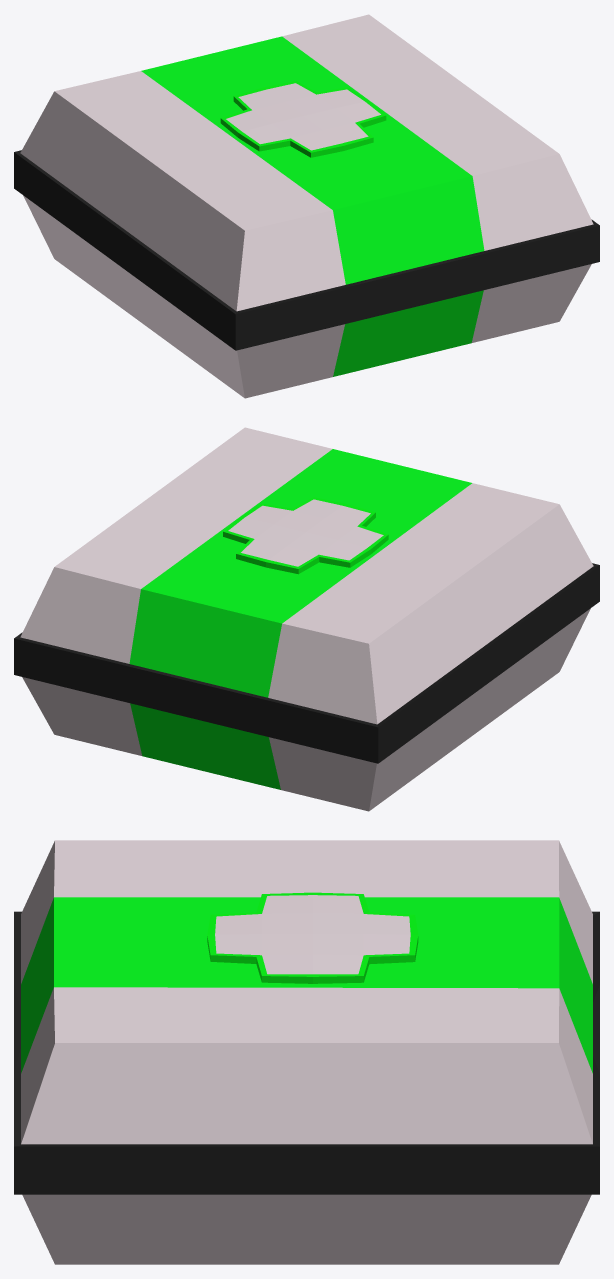
File: medikit2.fbx
3 renders of one model, top to bottom at view 1: azimuth 30°, elevation 25°; view 2: azimuth 150°, elevation 25°; view 3: azimuth 270°, elevation 25°, orthographic. The views are drawn at different scales.
Visible parts, largest first — view 1: Cube; view 2: Cube; view 3: Cube.
Boxes of the visible parts, <box> form: Cube: <box>14,14,599,398</box>; Cube: <box>14,427,599,811</box>; Cube: <box>14,840,599,1264</box>.
Size of the model in its own units: 262 by 119 by 276.
